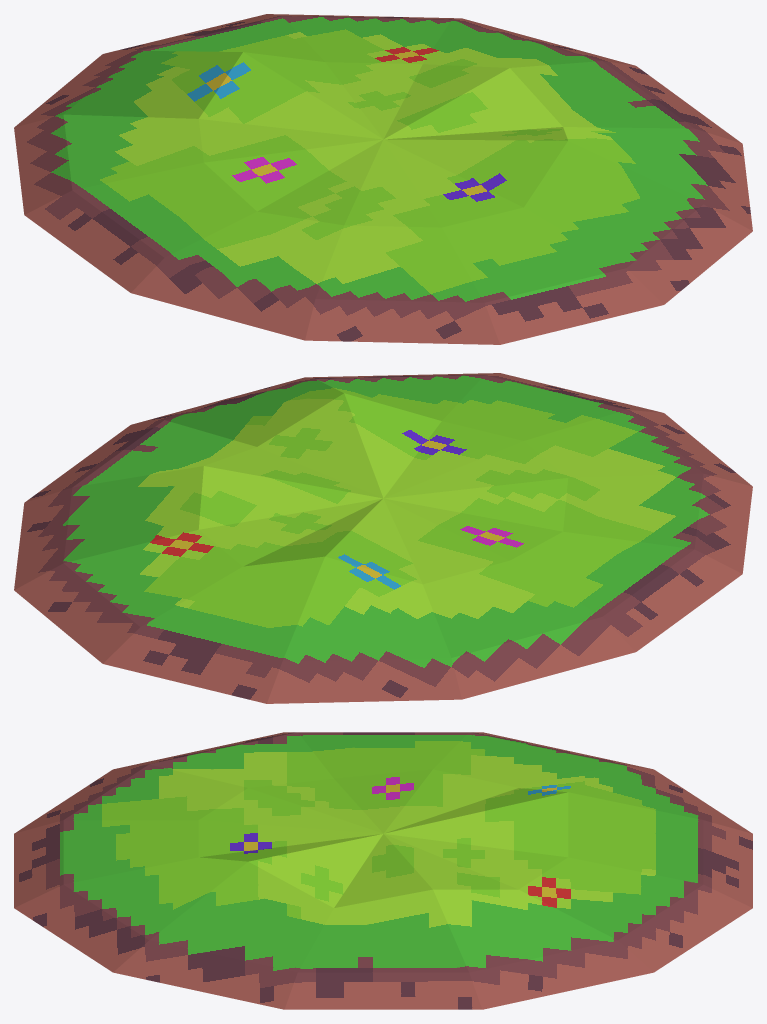
File: FlagMound.fbx
3 views of the same model, one above another, from view 1: azimuth 30°, elevation 25°; view 2: azimuth 150°, elevation 25°; view 3: azimuth 270°, elevation 25° (orthographic). The views are drawn at different scales.
Parts seen in each view (by area): view 1: sphere; view 2: sphere; view 3: sphere.
Boxes of the visible parts, box(x1,y1,x2,y2) form: sphere: box(14, 14, 752, 344); sphere: box(14, 373, 752, 703); sphere: box(14, 732, 752, 1009).
Bounding box in the file's own units: 100 × 10.1 × 112.
Materials: 1 (1 with a texture image).
